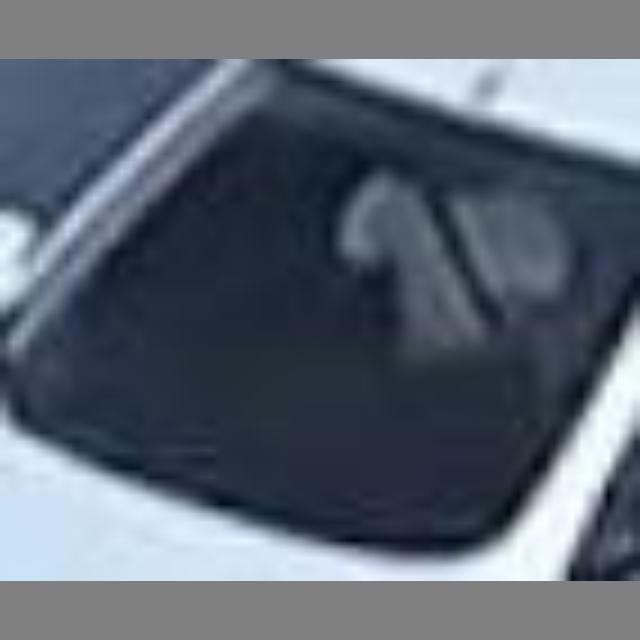pakai: (270, 140, 604, 447)
